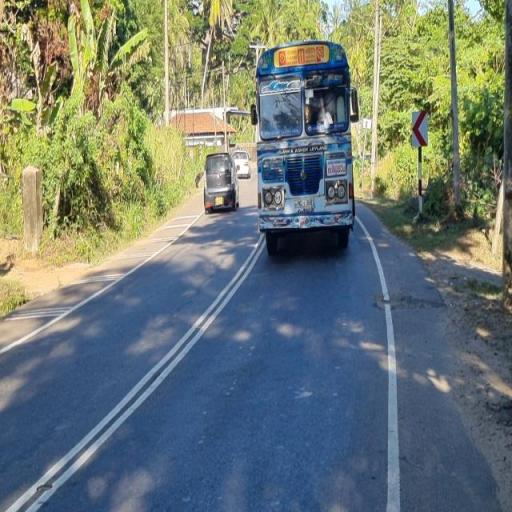double_white_line: (6, 231, 261, 512)
